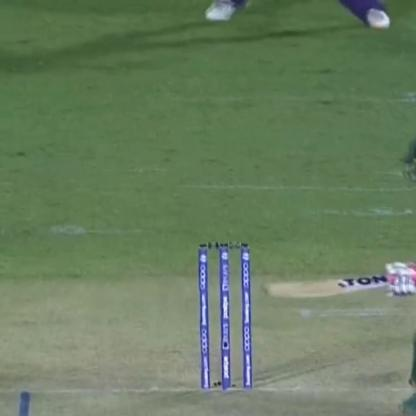bat: (250, 269, 404, 307)
